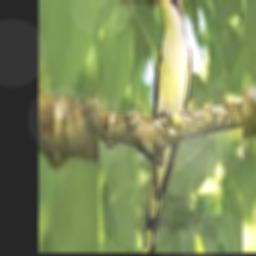Cuckoo: (141, 0, 191, 253)
